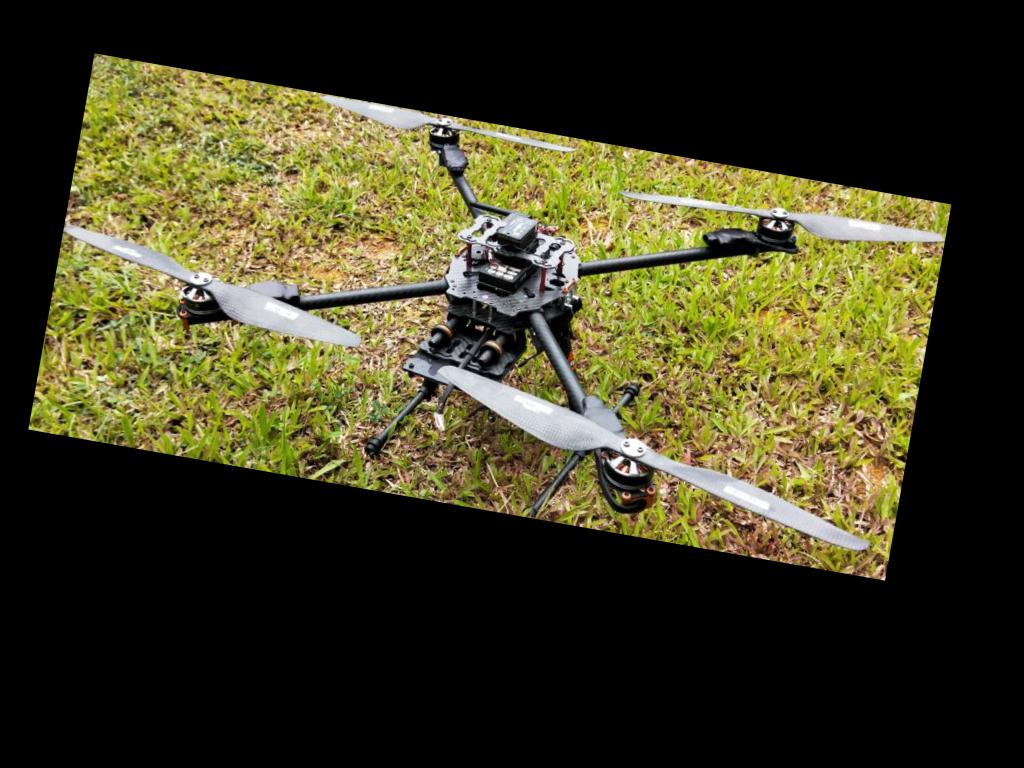drone: (17, 28, 976, 608)
